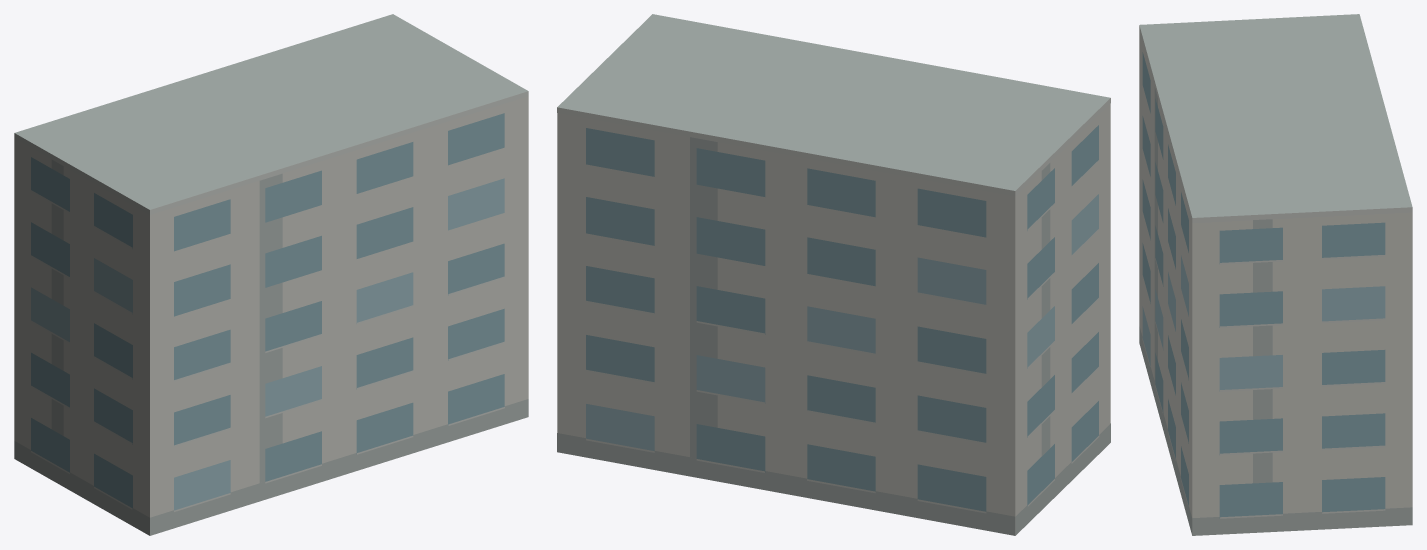
Rendered from residential-1bc9403e-b25d-4483-8ffb-1e064c7022e8.glb.
3 renders of one model, left to right at view 1: azimuth 30°, elevation 25°; view 2: azimuth 150°, elevation 25°; view 3: azimuth 270°, elevation 25°, orthographic. The views are drawn at different scales.
Parts seen in each view (by area): view 1: residential-1bc9403e-b25d-4483-8ffb-1e064c7022e8.tmp; view 2: residential-1bc9403e-b25d-4483-8ffb-1e064c7022e8.tmp; view 3: residential-1bc9403e-b25d-4483-8ffb-1e064c7022e8.tmp.
Part boxes in pixels (box(x1,y1,x2,y2)): residential-1bc9403e-b25d-4483-8ffb-1e064c7022e8.tmp: box(14, 14, 528, 535); residential-1bc9403e-b25d-4483-8ffb-1e064c7022e8.tmp: box(557, 14, 1110, 535); residential-1bc9403e-b25d-4483-8ffb-1e064c7022e8.tmp: box(1139, 14, 1412, 535).
Size of the model in its own units: 21 by 15.25 by 11.89.
